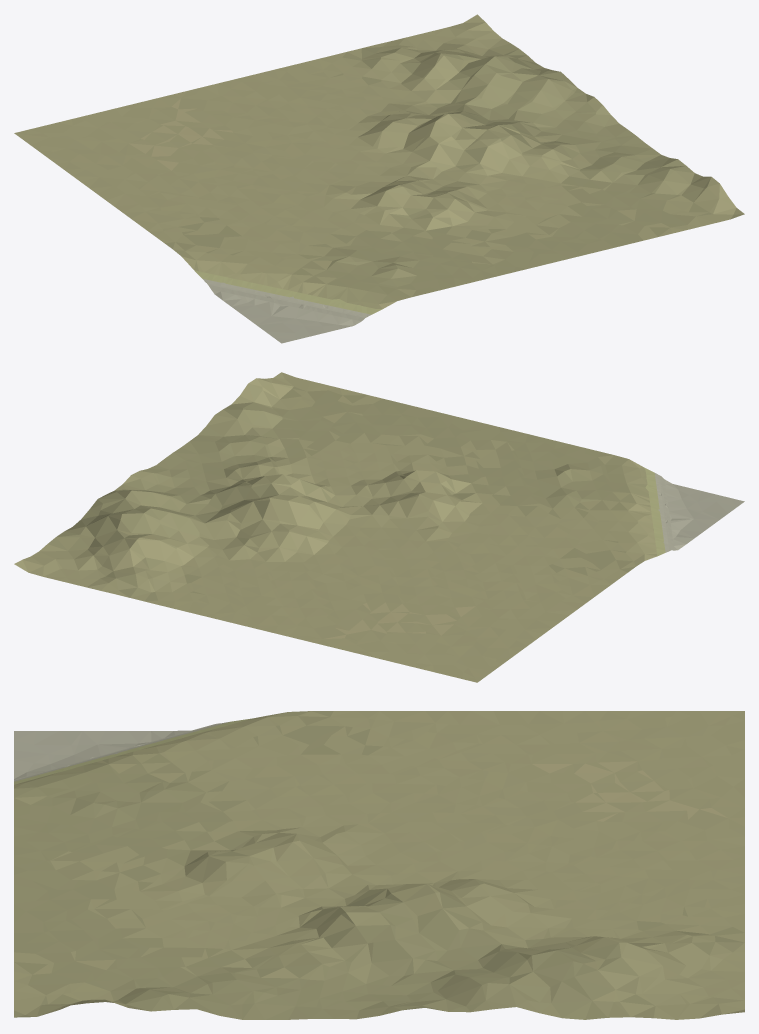
Rendered from Ground_-4_-5.glb.
3 renders of one model, top to bottom at view 1: azimuth 30°, elevation 25°; view 2: azimuth 150°, elevation 25°; view 3: azimuth 270°, elevation 25°, orthographic. The views are drawn at different scales.
Visible parts, largest first — view 1: Ground_-4_-5; view 2: Ground_-4_-5; view 3: Ground_-4_-5.
Boxes of the visible parts, bbox=[...] form: Ground_-4_-5: bbox=[14, 14, 744, 343]; Ground_-4_-5: bbox=[14, 372, 744, 682]; Ground_-4_-5: bbox=[14, 711, 744, 1019].
Size of the model in its own units: 768 by 60.58 by 768.
